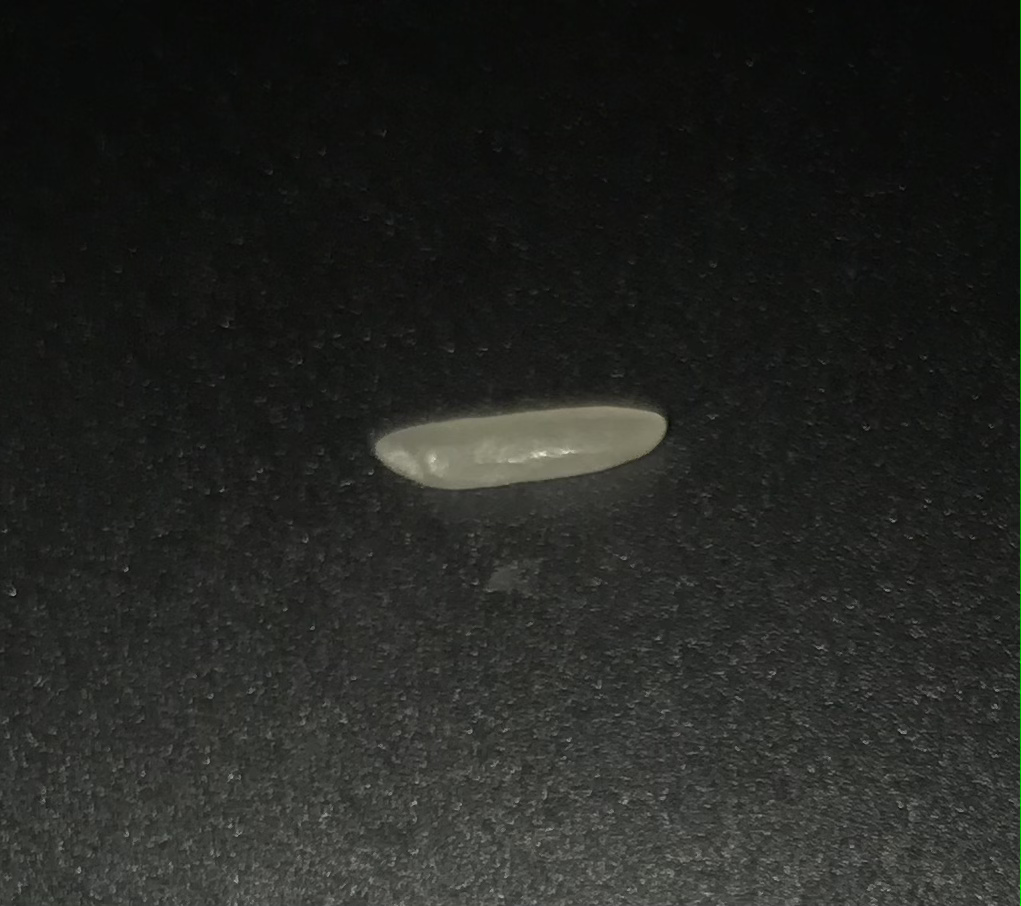Gao Thom My: (348, 369, 679, 514)
